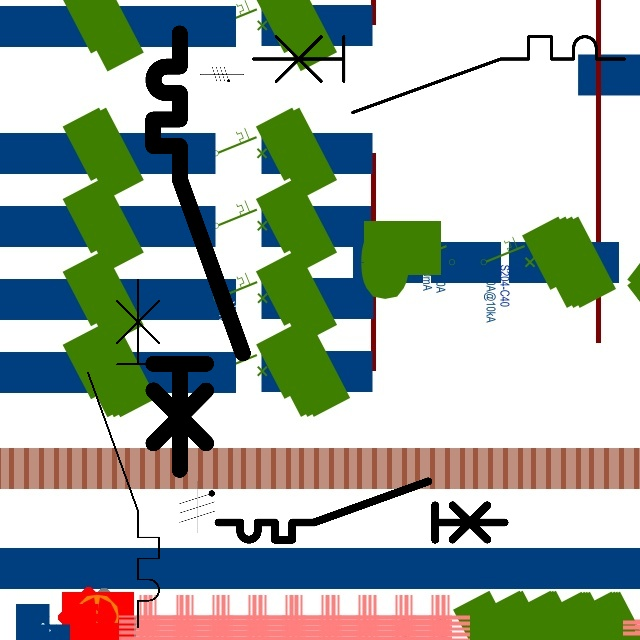interruptor_termomagnetico: (142, 22, 254, 481), (244, 27, 634, 122), (79, 271, 168, 636), (211, 474, 512, 547)
